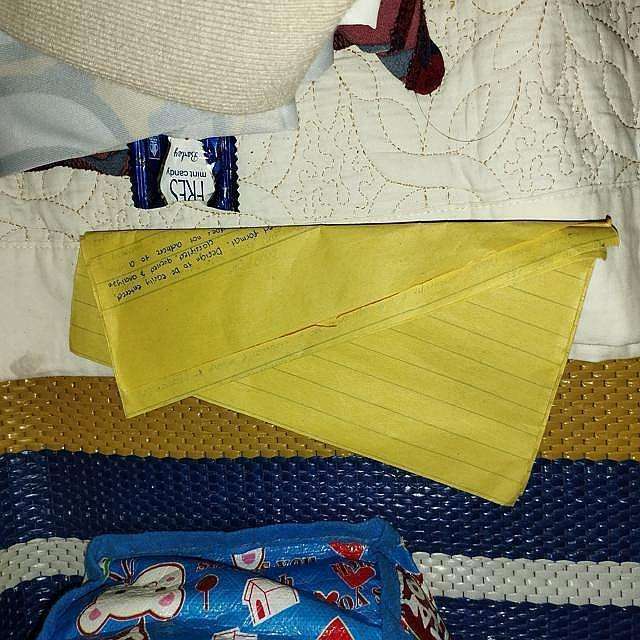Biodegradable: (76, 225, 613, 490)
Non-biodegradable: (132, 131, 241, 214)
